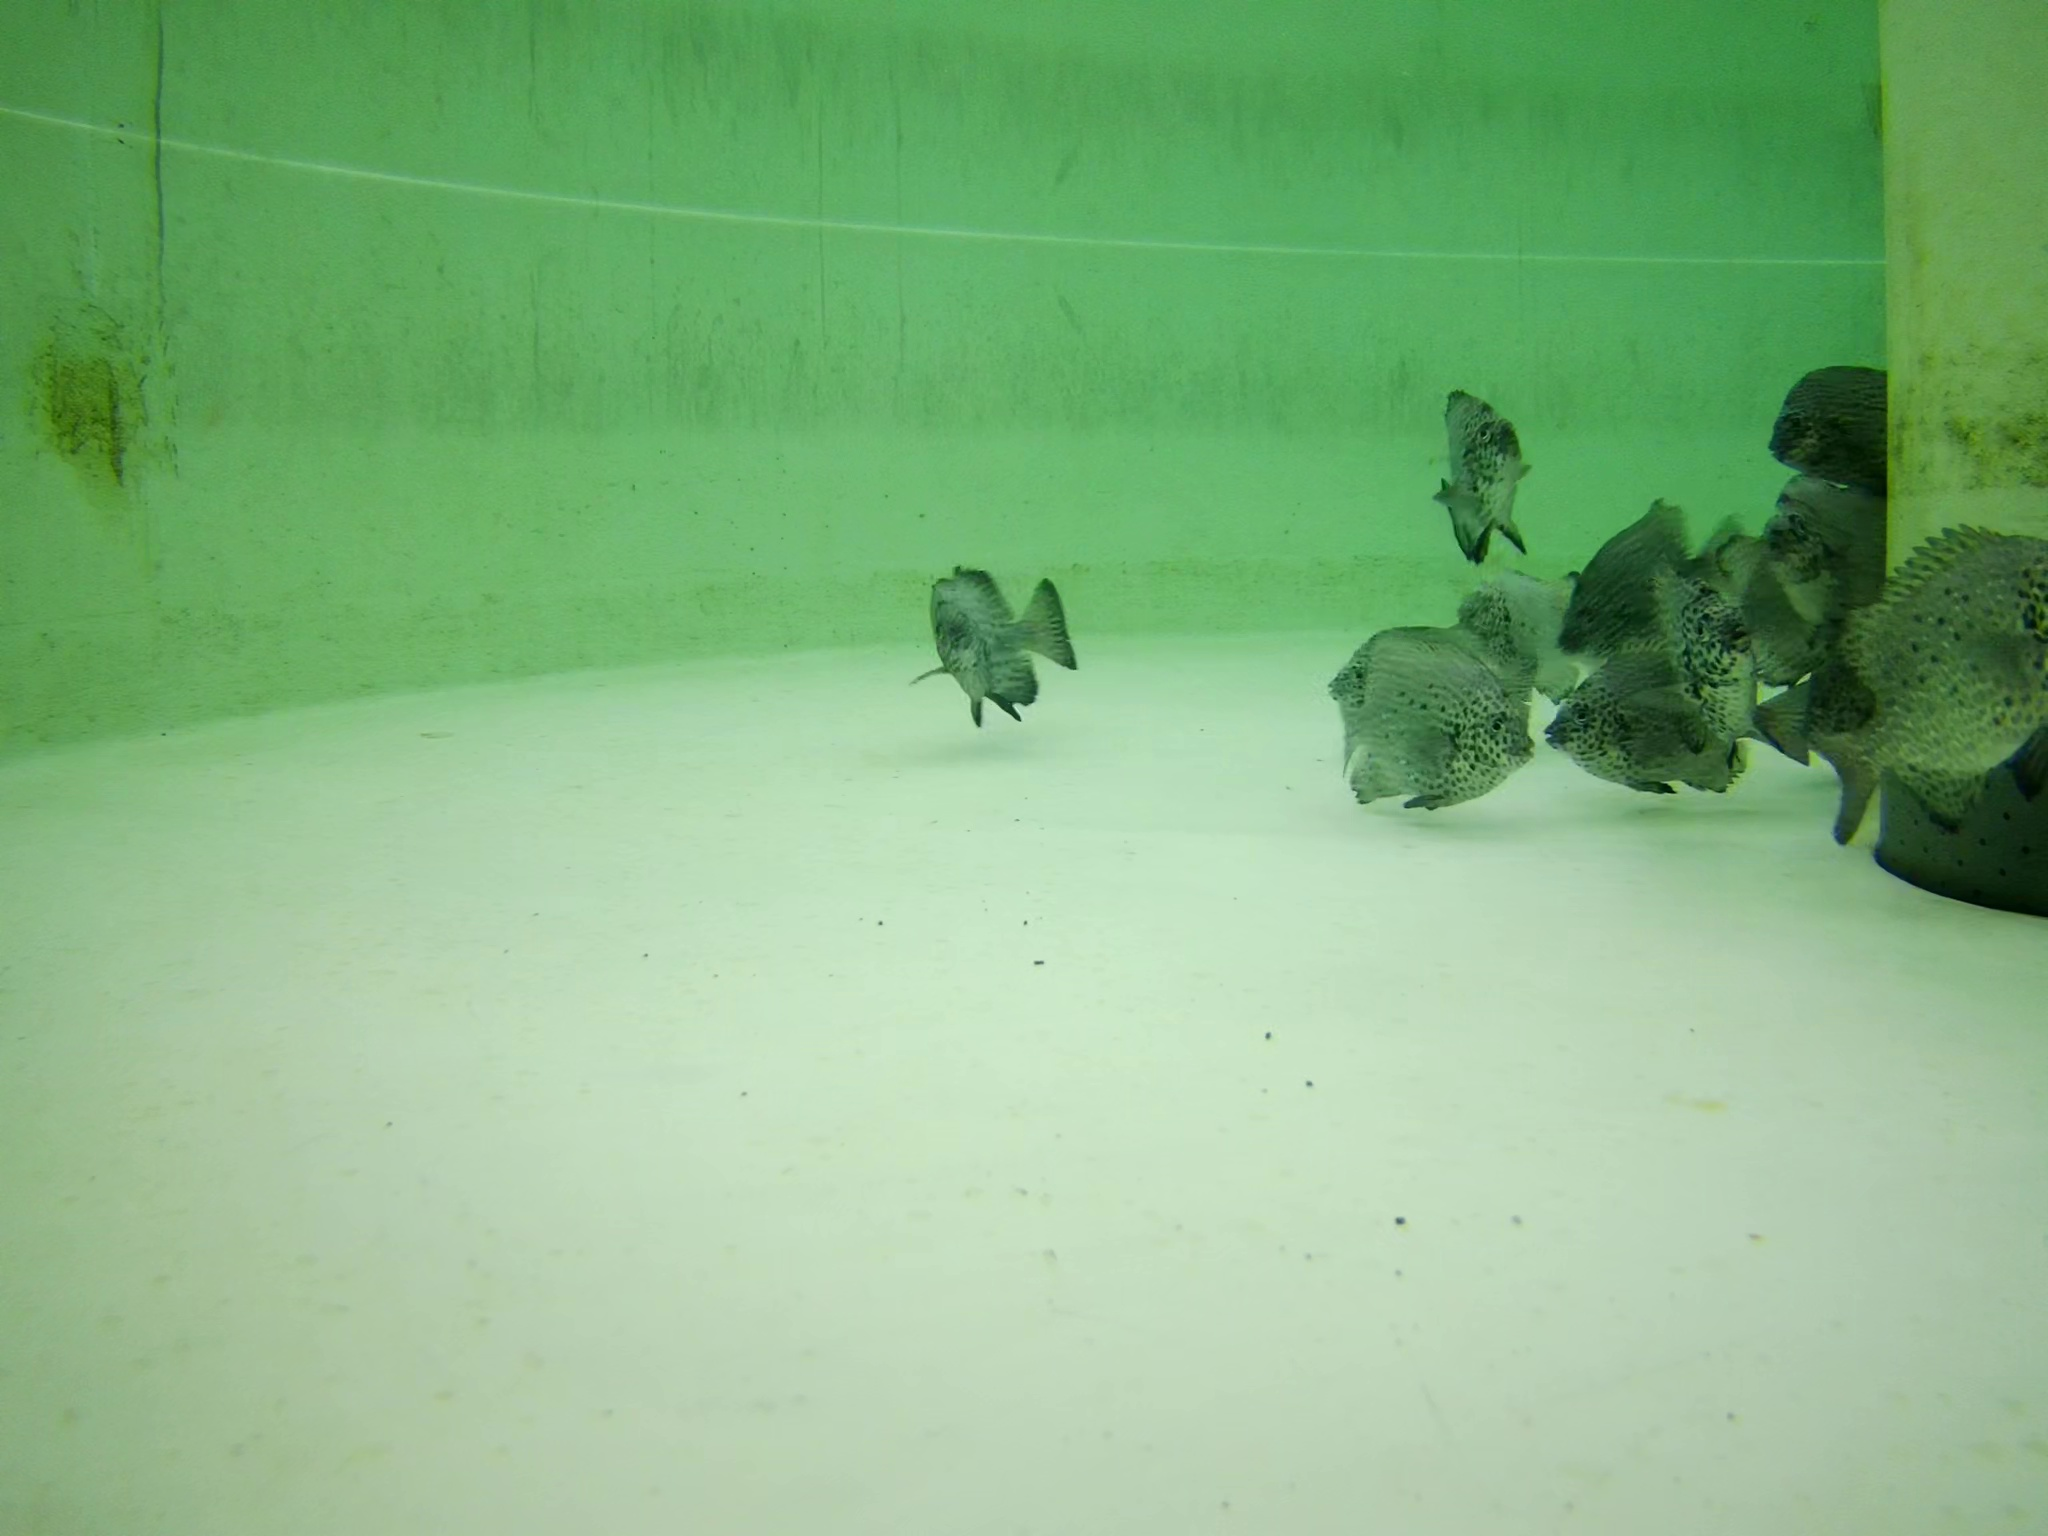fish: (1813, 526, 2048, 852), (1322, 632, 1535, 807), (1532, 658, 1748, 797), (906, 565, 1080, 718), (1559, 494, 1722, 657), (1438, 563, 1587, 702), (1424, 382, 1537, 557), (1663, 558, 1756, 753), (1755, 476, 1888, 610), (1764, 357, 1895, 489), (1724, 557, 1829, 673)
